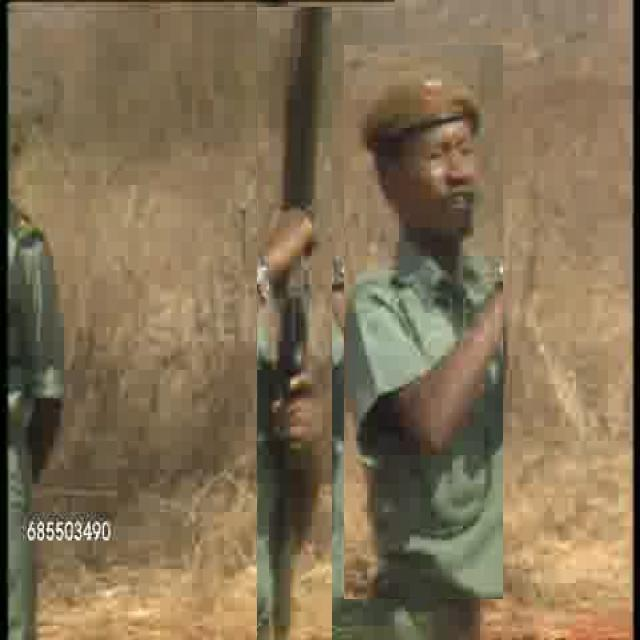poacher: (344, 45, 503, 599)
weapon: (257, 7, 332, 640)
